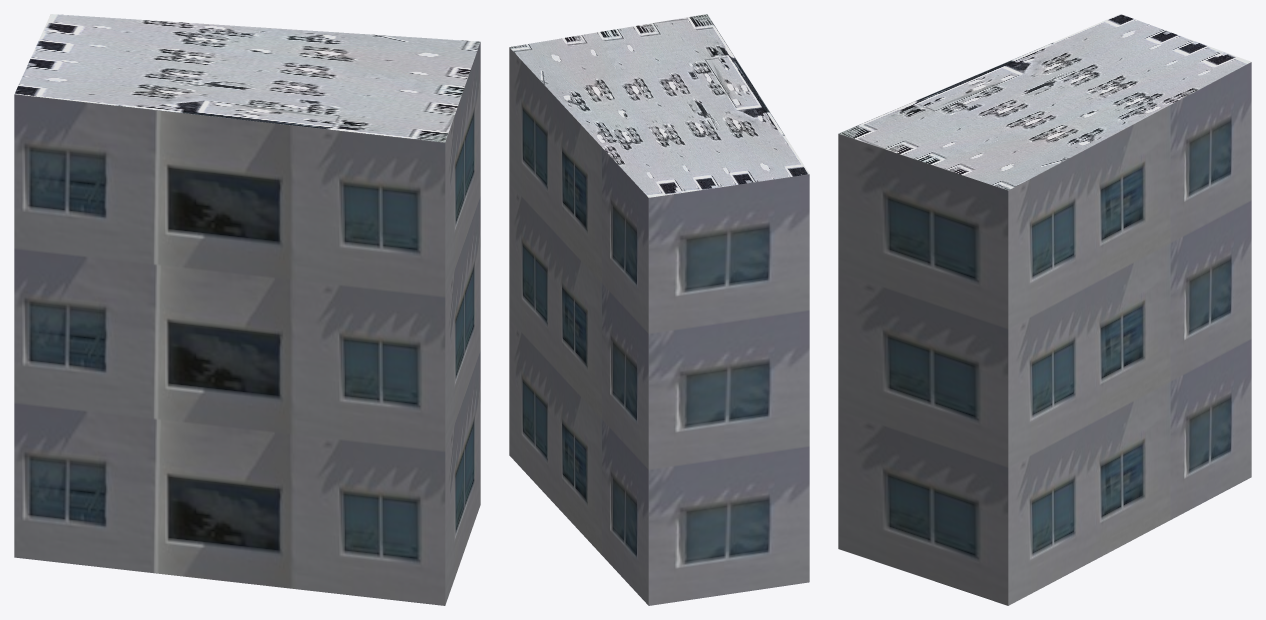
File: ResTex__419.fbx
3 renders of one model, left to right at view 1: azimuth 30°, elevation 25°; view 2: azimuth 150°, elevation 25°; view 3: azimuth 270°, elevation 25°, orthographic. The views are drawn at different scales.
Visible parts, largest first — view 1: CityEngineMaterial_10_m, CityEngineMaterial_m; view 2: CityEngineMaterial_10_m, CityEngineMaterial_m; view 3: CityEngineMaterial_10_m, CityEngineMaterial_m.
Part boxes in pixels (box(x1,y1,x2,y2)): CityEngineMaterial_10_m: box(14, 42, 480, 605); CityEngineMaterial_m: box(14, 14, 480, 142); CityEngineMaterial_10_m: box(509, 47, 809, 605); CityEngineMaterial_m: box(509, 14, 809, 197); CityEngineMaterial_10_m: box(838, 62, 1251, 605); CityEngineMaterial_m: box(838, 14, 1250, 190).
Bounding box in the file's own units: 8.21 × 9 × 8.12.
2 materials, 2 textured.
